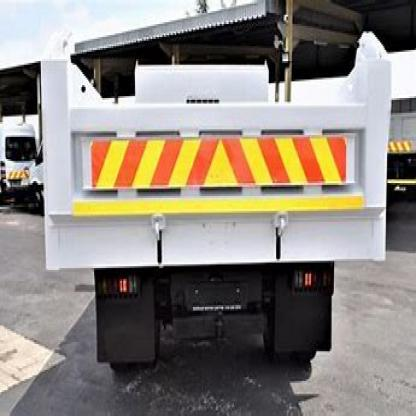dump_truck: (30, 15, 397, 381)
